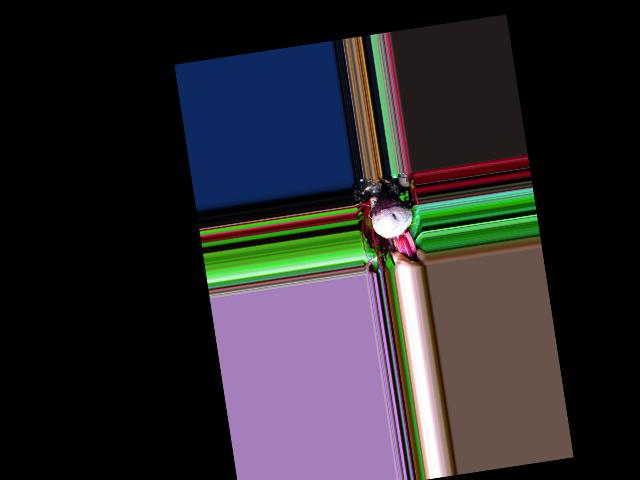beet: (364, 172, 419, 267)
